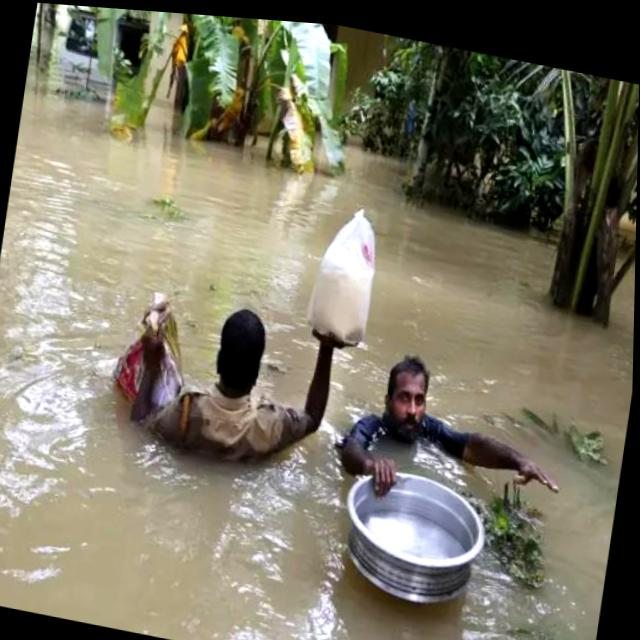civilian: (109, 245, 360, 504), (328, 320, 575, 549)
